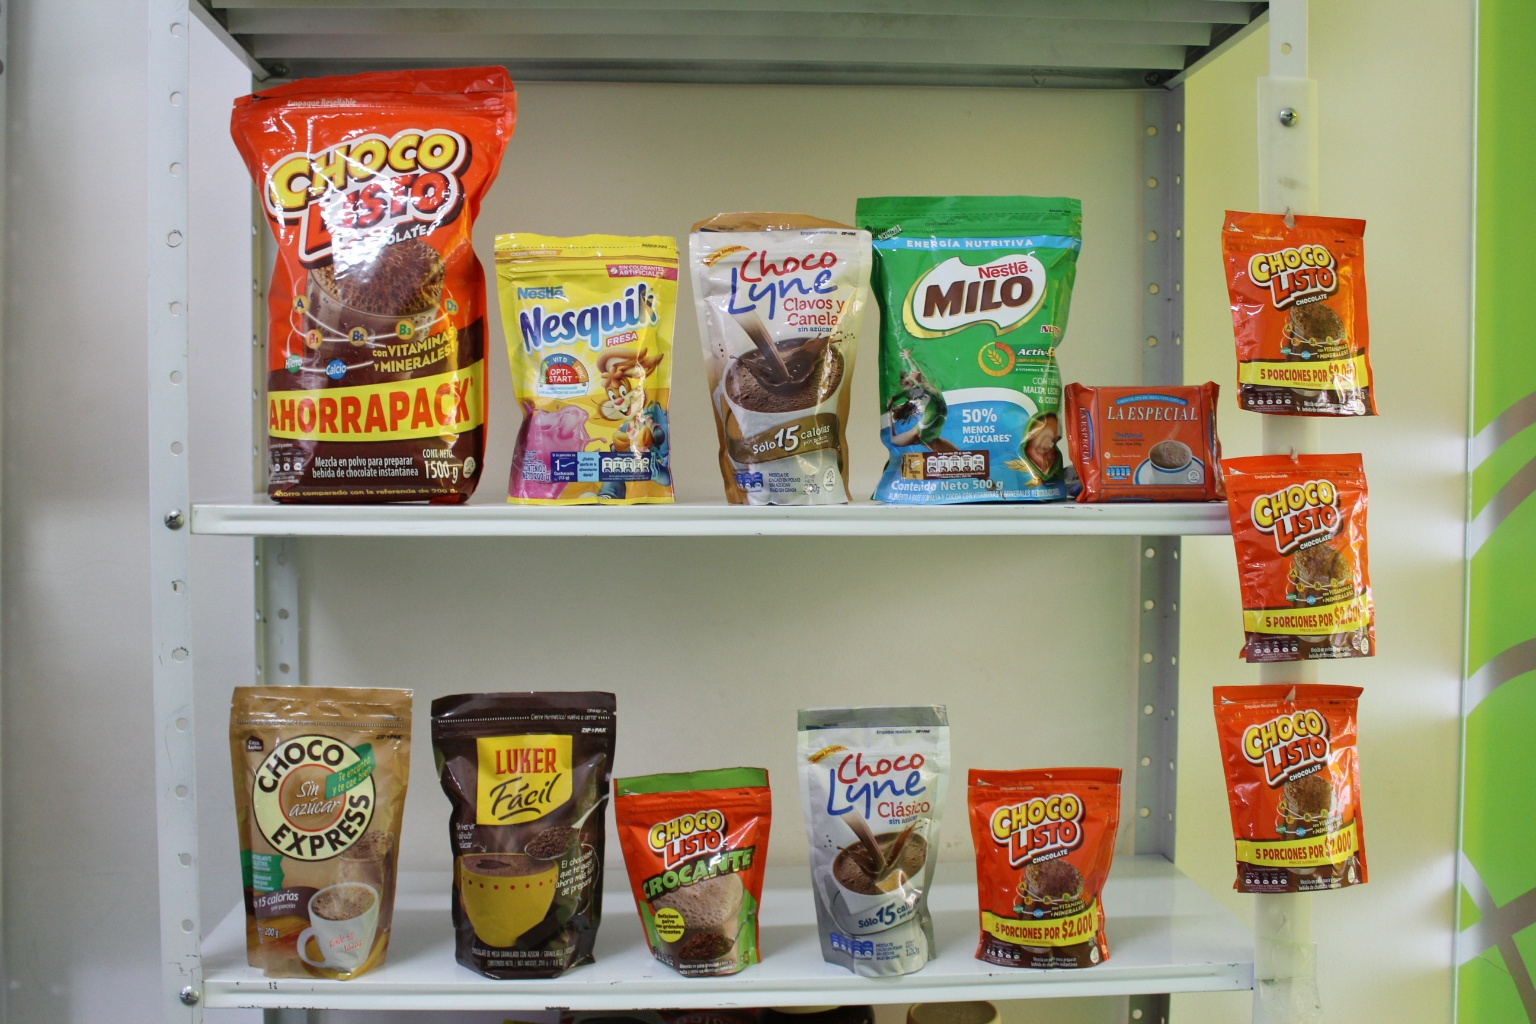COL0170102DYP10000: (623, 768, 787, 987)
COL0170103DYP1,500: (231, 53, 527, 514)
COL0170205DYP50000: (864, 186, 1085, 510)
COL0170305DYP20000: (488, 226, 689, 514)
